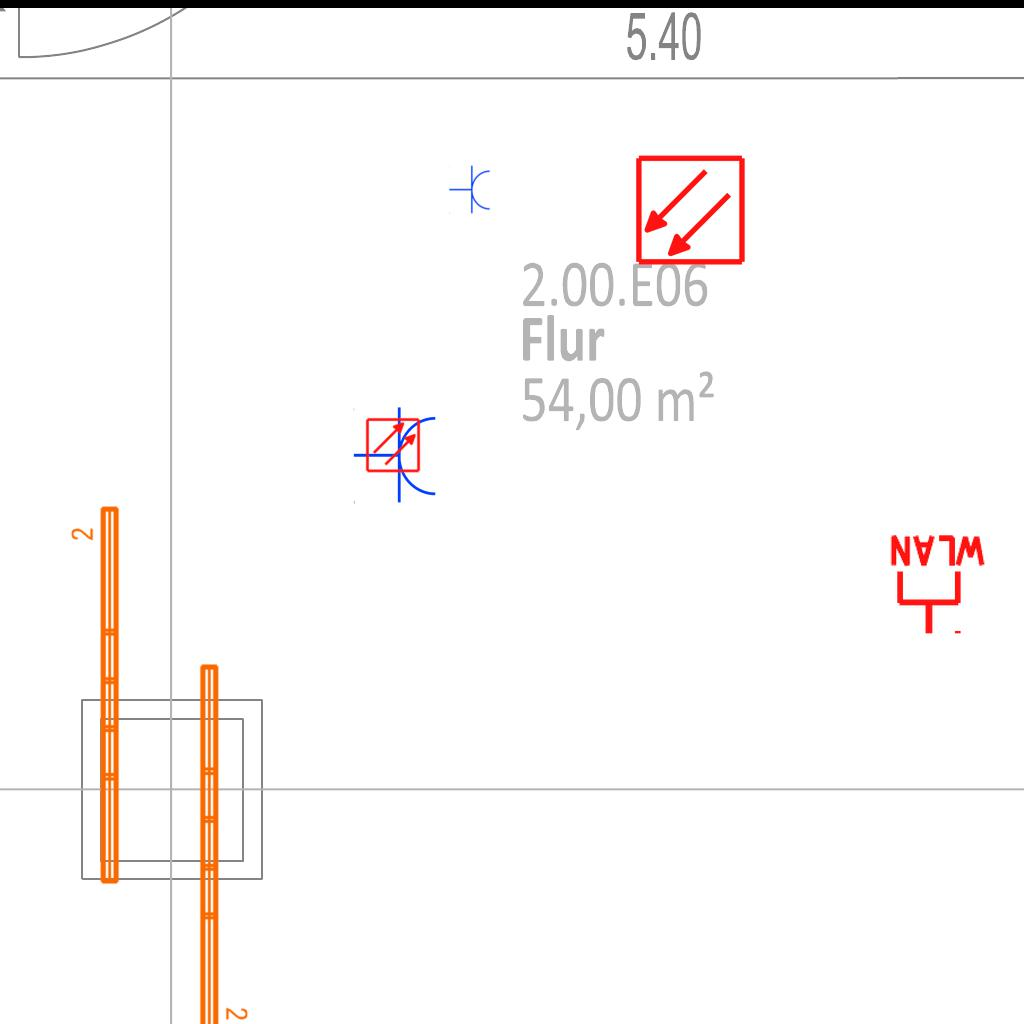Ambulanz_Pendelleuchte_LED: (69, 502, 125, 889), (194, 659, 250, 1024)
RMO_Rauchmelder_optischer: (634, 154, 747, 267), (365, 417, 421, 473)
Schukosteckdose_einfach: (353, 406, 440, 506), (449, 165, 492, 215)
WLAN: (886, 533, 990, 638)
